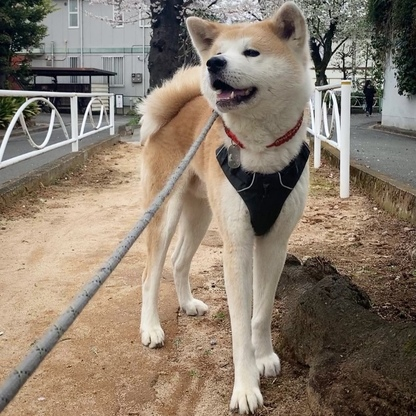akita: (115, 1, 327, 416)
